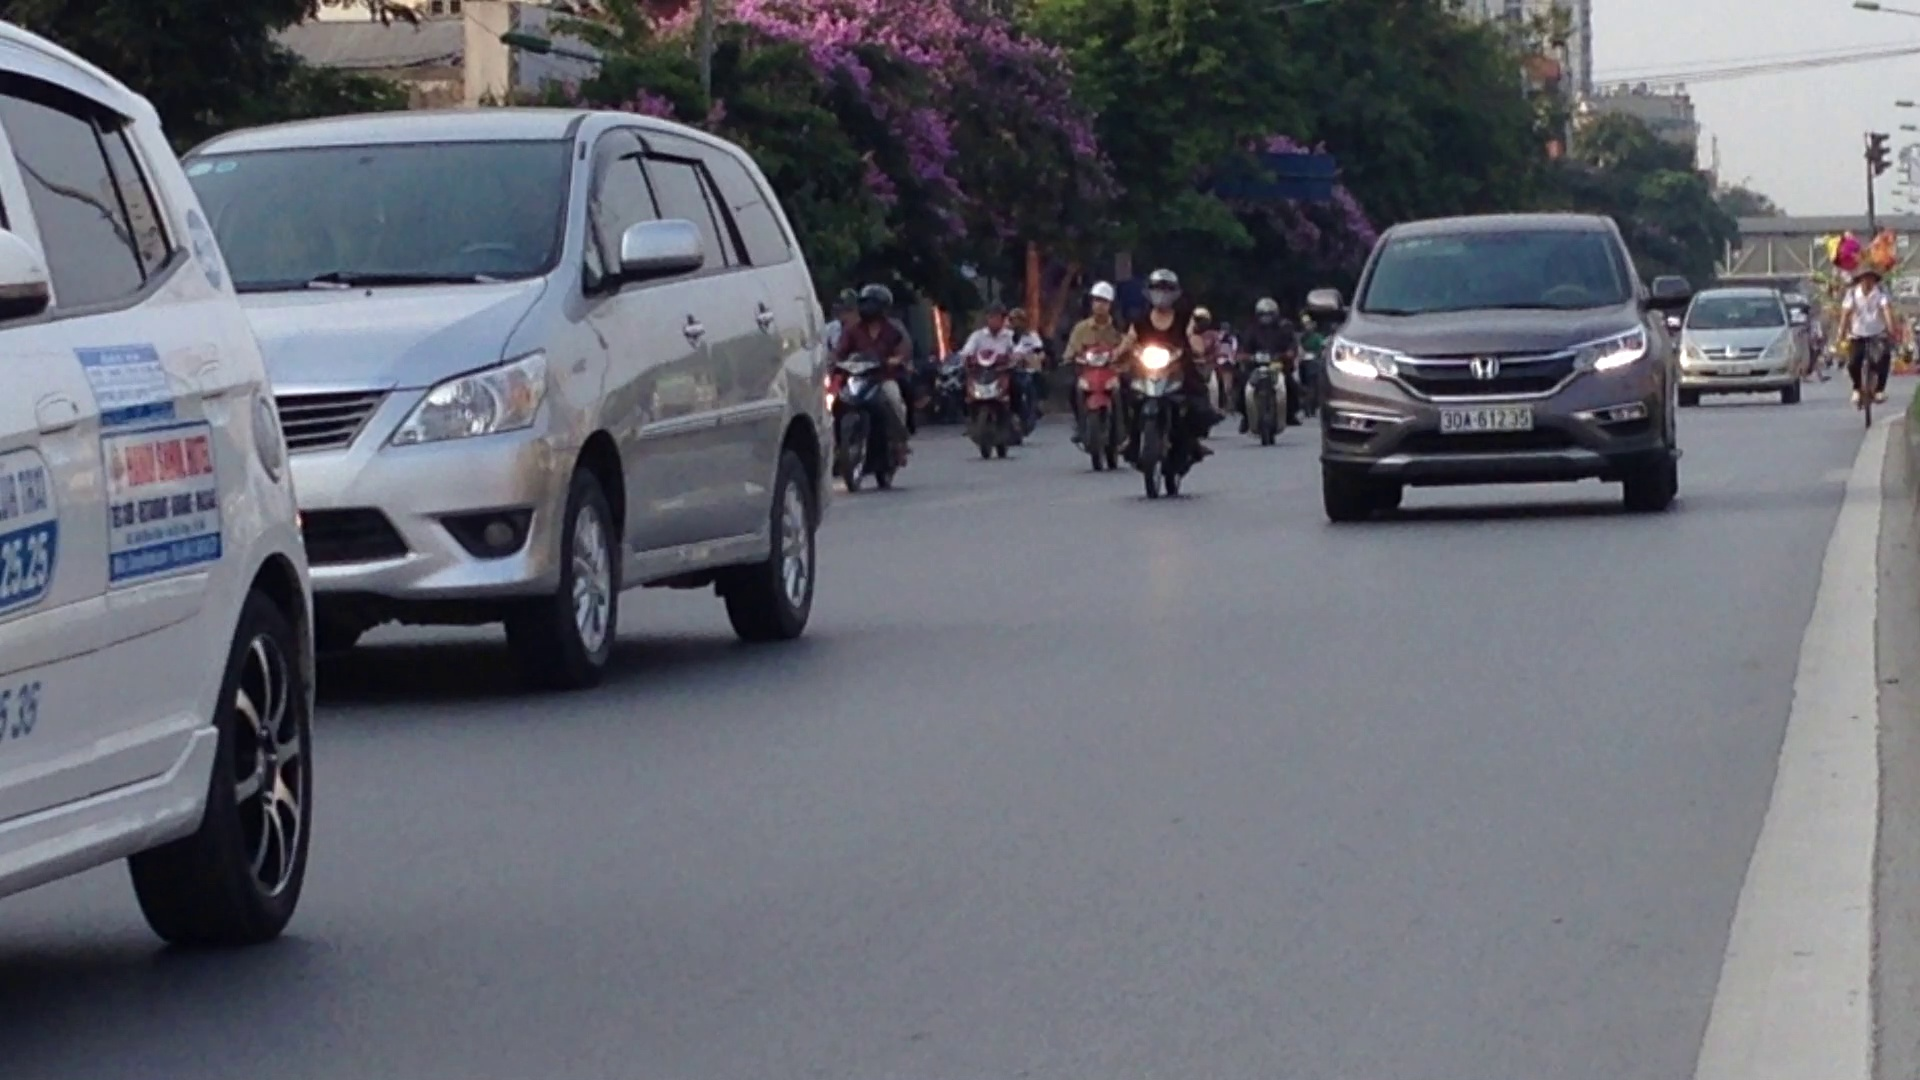vehicle-plate: (1435, 401, 1537, 434)
